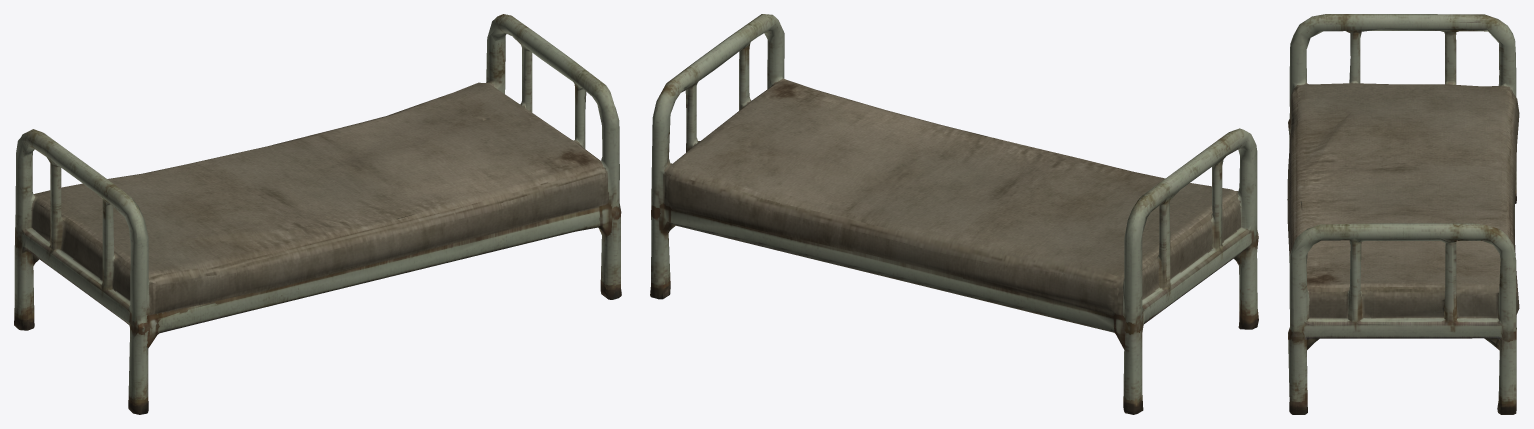
File: bunker_medical_cot.glb
The picture shows the model from 3 angles, left to right: view 1: azimuth 30°, elevation 25°; view 2: azimuth 150°, elevation 25°; view 3: azimuth 270°, elevation 25°; orthographic projection. The views are drawn at different scales.
Parts seen in each view (by area): view 1: MedicalCot; view 2: MedicalCot; view 3: MedicalCot.
Part boxes in pixels (bbox=[...]): MedicalCot: bbox=[14, 14, 621, 414]; MedicalCot: bbox=[650, 14, 1258, 414]; MedicalCot: bbox=[1287, 14, 1519, 414].
Bounding box in the file's own units: 2.1 × 0.85 × 0.95.
1 material, 1 textured.
